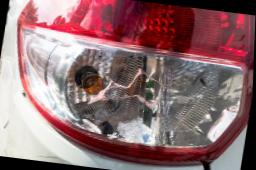Light: (62, 51, 226, 149)
